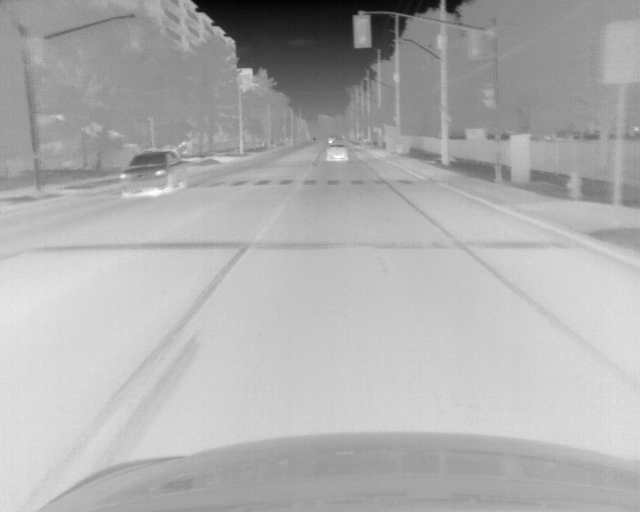car: (119, 150, 188, 197), (325, 143, 350, 163), (328, 136, 343, 144)
